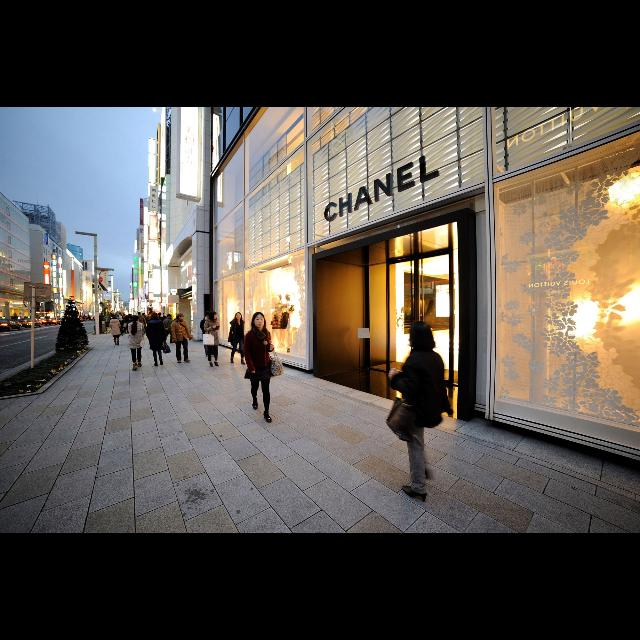head: (408, 322, 432, 348), (253, 312, 265, 328), (209, 312, 217, 320), (204, 312, 212, 320), (132, 315, 140, 323), (235, 312, 242, 320), (178, 314, 185, 320), (152, 314, 158, 320), (112, 317, 118, 321), (168, 314, 172, 318), (137, 312, 141, 316), (163, 313, 167, 317)
person: (386, 319, 450, 505), (241, 312, 285, 424), (146, 312, 172, 368), (227, 312, 249, 366), (202, 311, 222, 369), (126, 314, 146, 372), (171, 313, 193, 365), (199, 312, 219, 360), (108, 316, 122, 348), (162, 314, 176, 344), (134, 312, 148, 336), (160, 312, 170, 340)
